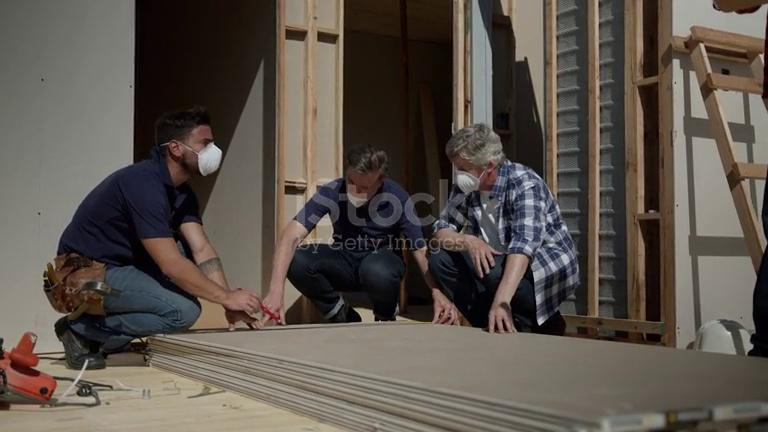mask: (188, 141, 224, 178), (343, 180, 373, 208), (450, 170, 480, 197)
person: (40, 110, 283, 369), (256, 146, 447, 328), (426, 125, 580, 335)
